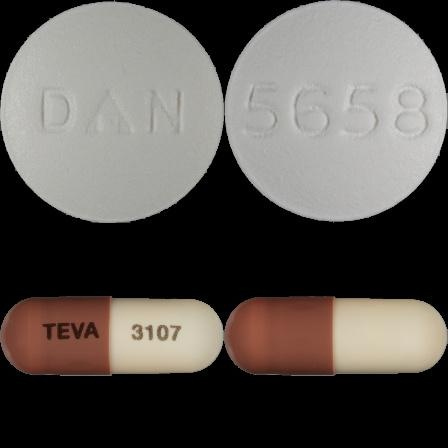67296-0007: (0, 0, 224, 224)
